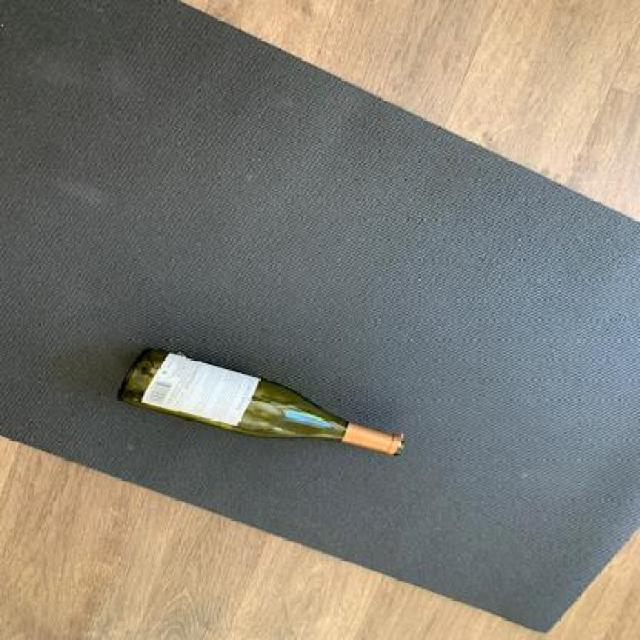trash: (108, 347, 409, 458)
